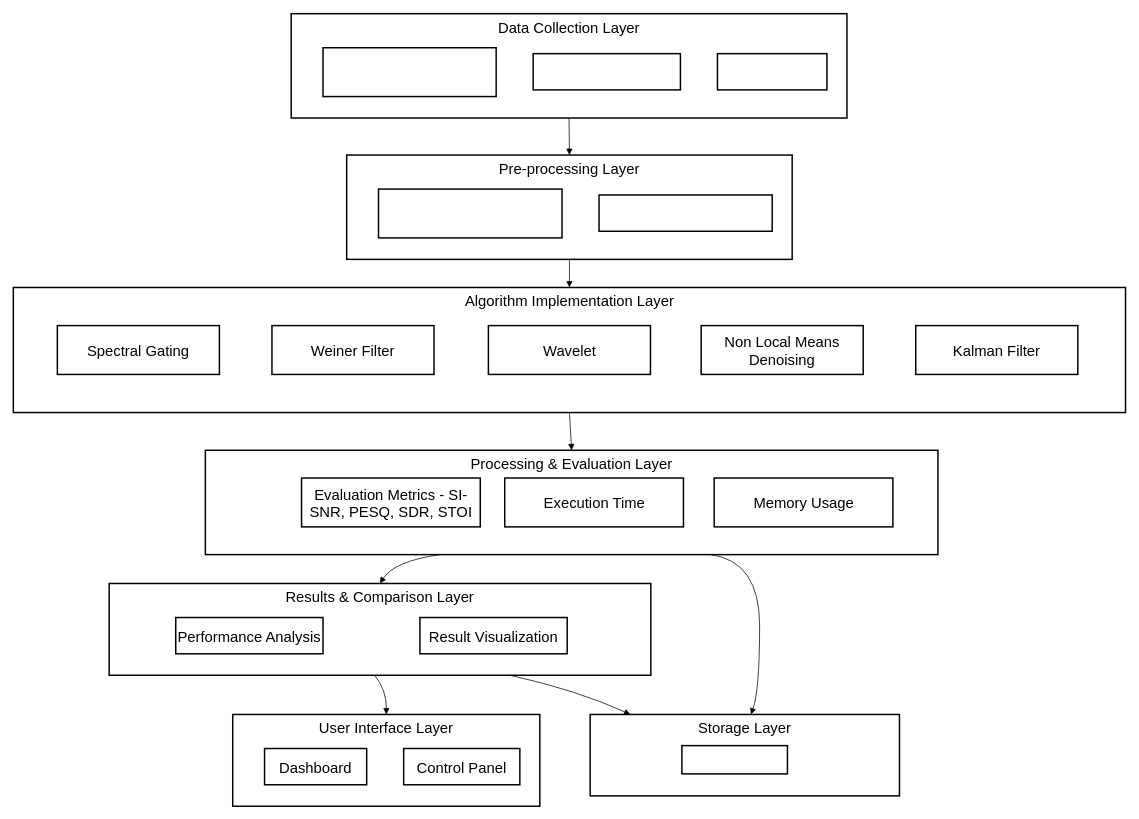
This 1139x819 diagram has some shape labels left out. The centre of each missing label's shape, as x and y in pixels:
Audio Storage: (734,759)
Feature Extraction - STFT, MFCC, PSD: (469,213)
Microphones - Real-time Audio: (409,72)
Noise Type Identification: (685,213)
Noise Types: (771,71)
Pre-recorded Audio: (606,71)
